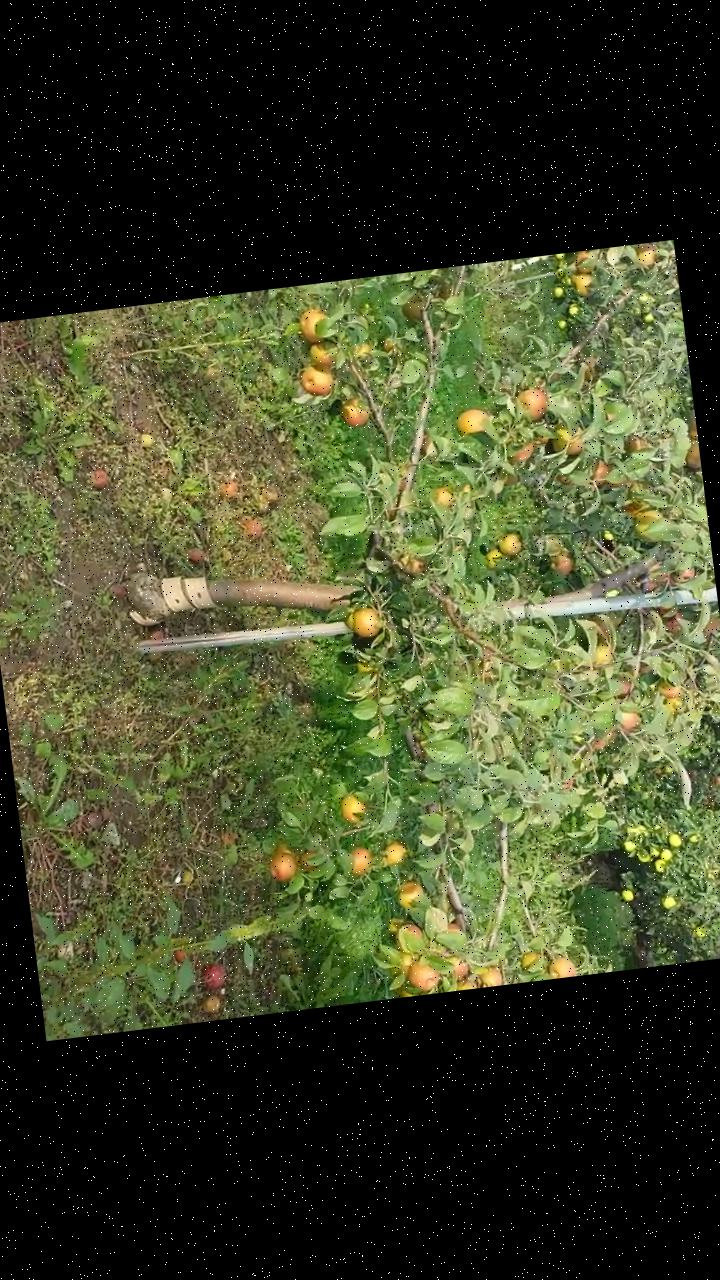Apple: (299, 360, 336, 398), (404, 957, 441, 991), (552, 418, 586, 454), (267, 849, 302, 882), (351, 604, 382, 638), (338, 396, 373, 426), (631, 504, 664, 534), (520, 388, 550, 420), (456, 406, 490, 434), (338, 792, 369, 822), (549, 549, 577, 580), (656, 602, 685, 630), (302, 308, 330, 337), (395, 879, 426, 905), (309, 338, 337, 365), (351, 842, 374, 874), (482, 544, 509, 570), (508, 439, 538, 462), (498, 530, 526, 554), (589, 459, 613, 486), (548, 954, 575, 978), (595, 639, 615, 670), (572, 269, 594, 296), (573, 250, 596, 274), (519, 944, 540, 970), (635, 244, 657, 268), (481, 965, 505, 987), (625, 433, 650, 454), (676, 562, 700, 582), (451, 954, 471, 978), (301, 848, 321, 872), (276, 839, 301, 858), (684, 442, 700, 471), (622, 708, 642, 731), (402, 918, 424, 938), (435, 484, 456, 504), (662, 678, 684, 697), (388, 839, 407, 861), (618, 676, 636, 698), (457, 974, 480, 990), (688, 408, 698, 442), (592, 732, 609, 752), (356, 656, 375, 672), (445, 918, 465, 932)
